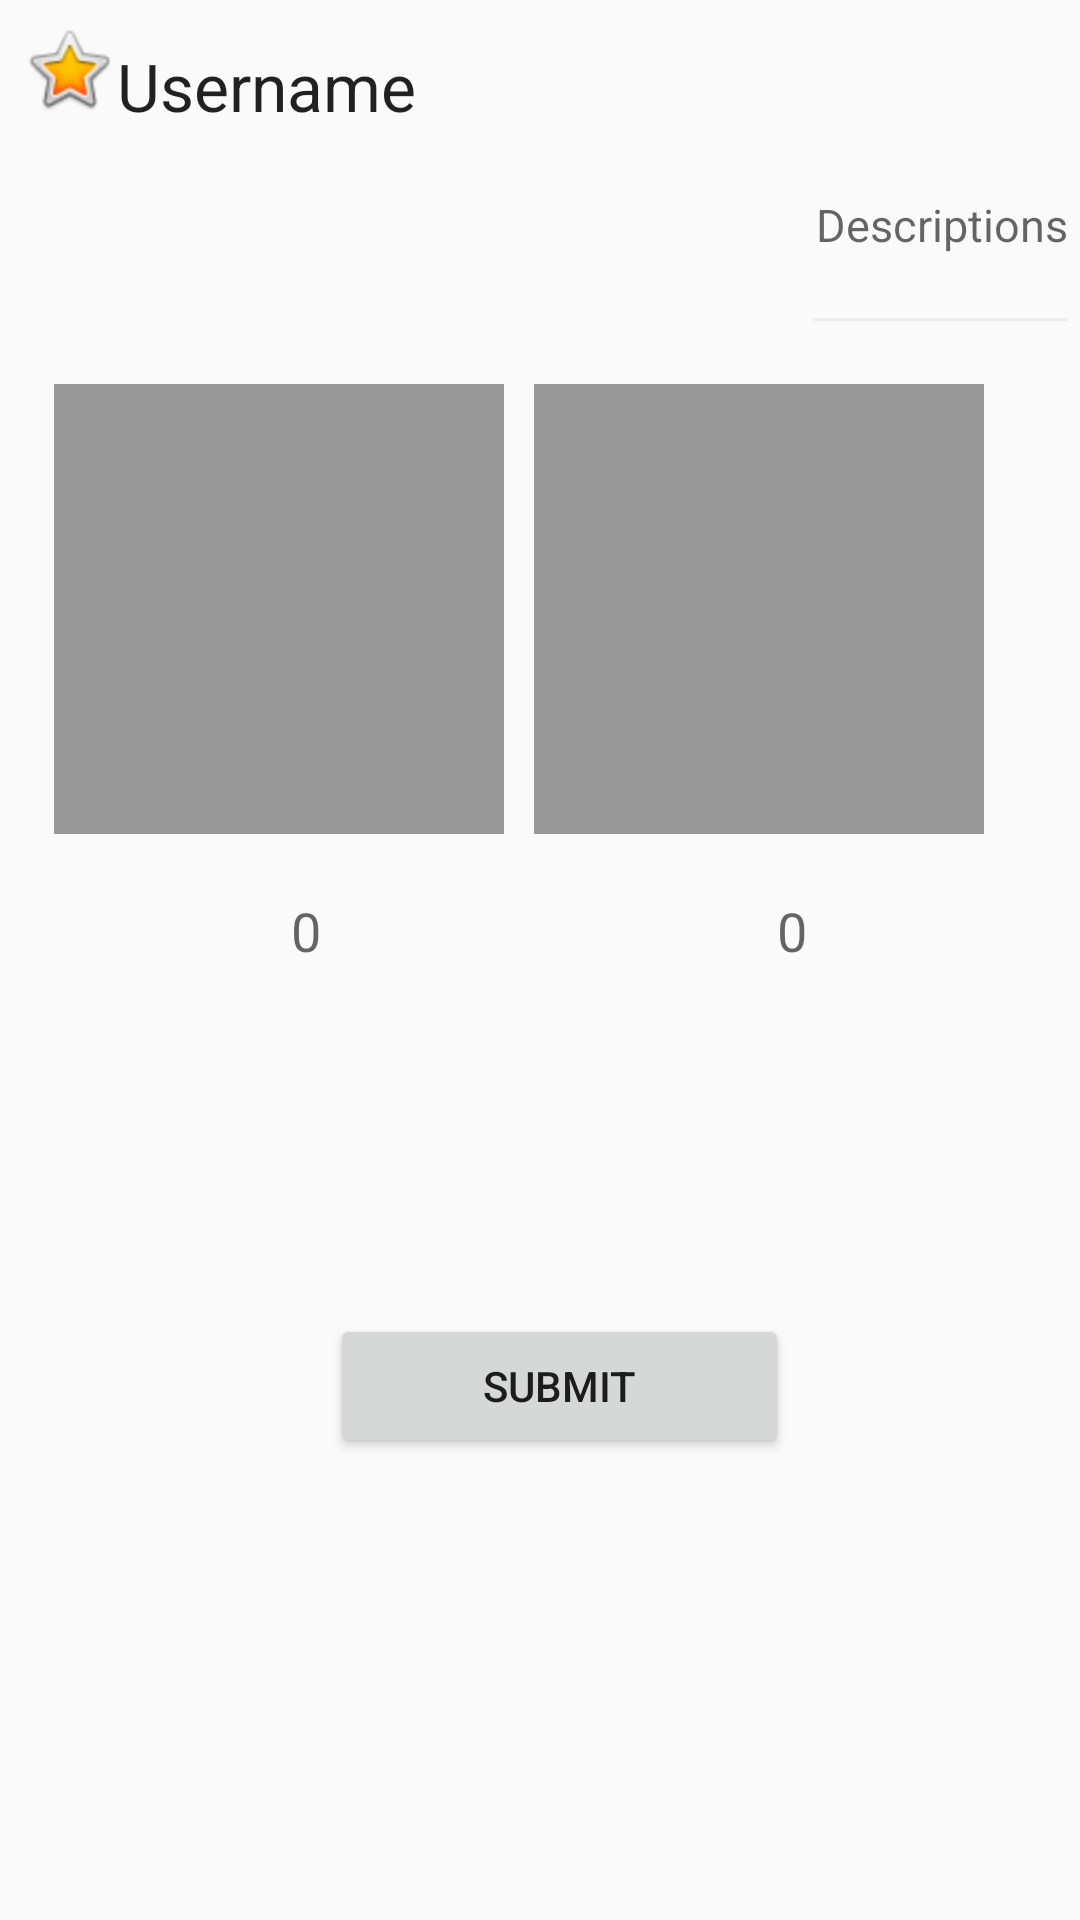

Icon click points for this 1080 x 1920 phone screenshot, format [x,y]:
star on: [70,70]
